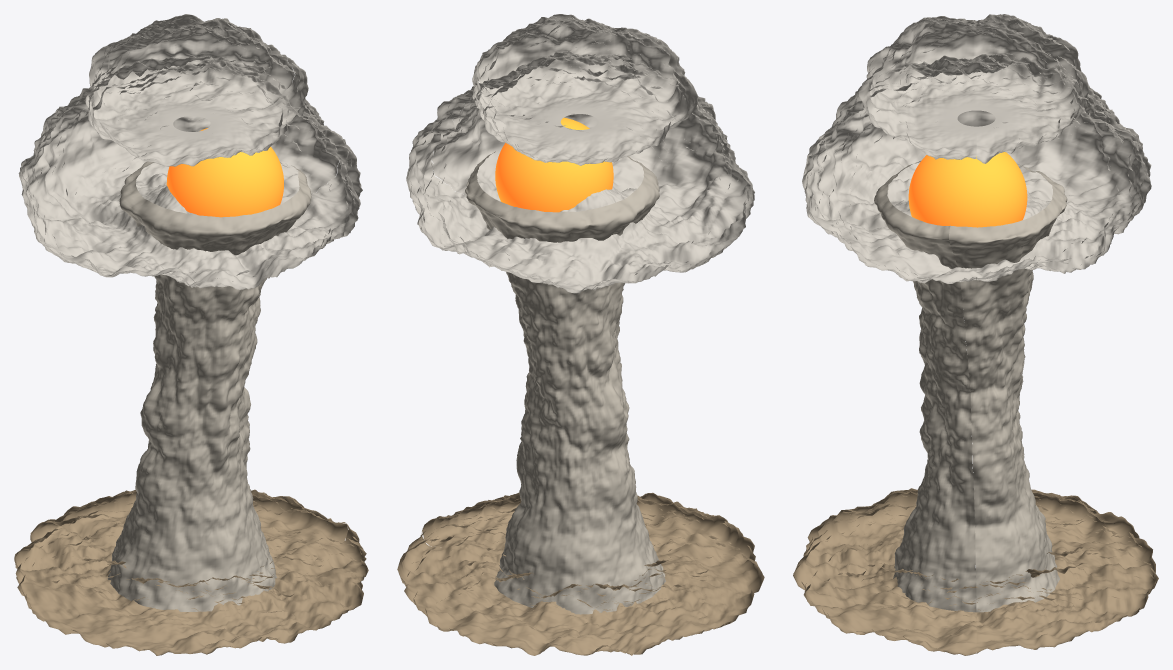
Rendered from mushroom-cloud.glb.
3 renders of one model, left to right at view 1: azimuth 30°, elevation 25°; view 2: azimuth 150°, elevation 25°; view 3: azimuth 270°, elevation 25°, orthographic.
Parts seen in each view (by area): view 1: stem, cap, dust_skirt, crown_billow, fireball_core; view 2: stem, cap, dust_skirt, crown_billow, fireball_core; view 3: stem, cap, dust_skirt, crown_billow, fireball_core.
Part boxes in pixels (left/top/right/bottom): stem: left=107, top=161, right=311, bottom=611; cap: left=18, top=56, right=362, bottom=289; dust_skirt: left=14, top=489, right=368, bottom=655; crown_billow: left=85, top=14, right=308, bottom=166; fireball_core: left=166, top=128, right=283, bottom=217; stem: left=465, top=151, right=665, bottom=614; cap: left=406, top=51, right=754, bottom=293; dust_skirt: left=397, top=492, right=764, bottom=655; crown_billow: left=472, top=14, right=698, bottom=165; fireball_core: left=495, top=117, right=613, bottom=212; stem: left=874, top=161, right=1067, bottom=612; cap: left=802, top=54, right=1151, bottom=283; dust_skirt: left=793, top=488, right=1158, bottom=655; crown_billow: left=858, top=14, right=1088, bottom=163; fireball_core: left=908, top=152, right=1027, bottom=227.
Size of the model in its own units: 7.75 by 13.11 by 7.71.
